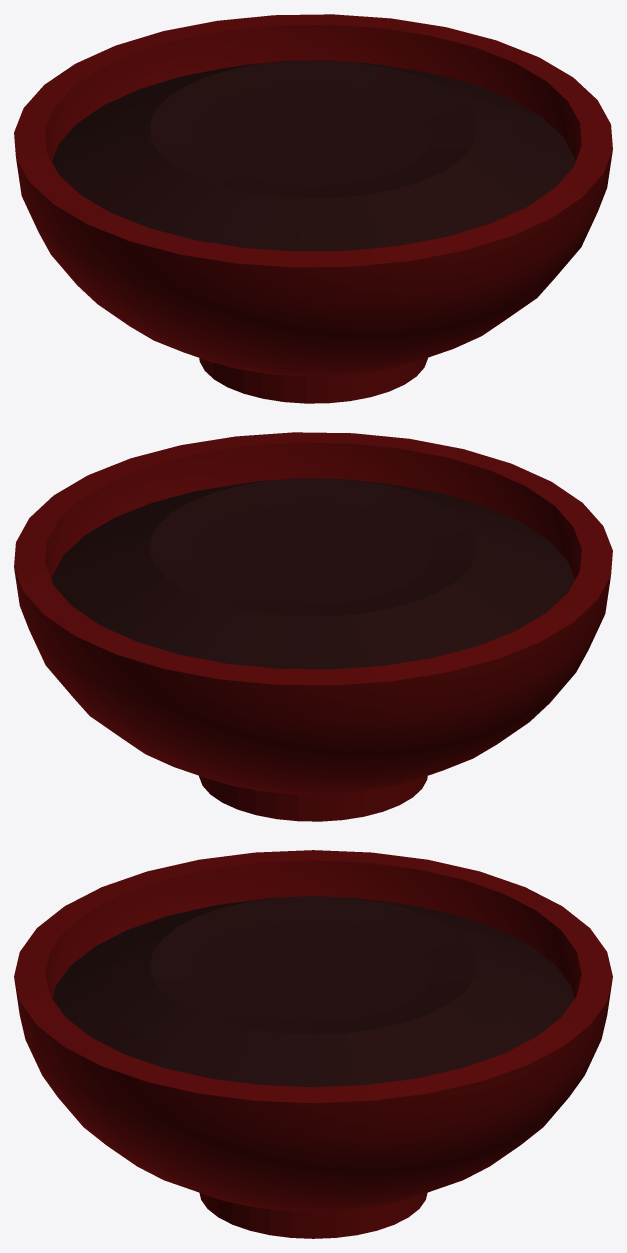
The model's file is offrandes_pieces.FBX.
The picture shows the model from 3 angles, top to bottom: view 1: azimuth 30°, elevation 25°; view 2: azimuth 150°, elevation 25°; view 3: azimuth 270°, elevation 25°; orthographic projection.
Visible parts, largest first — view 1: Niveau1_Bol002; view 2: Niveau1_Bol002; view 3: Niveau1_Bol002.
Boxes of the visible parts, x1,y1,x2,y2 form: Niveau1_Bol002: (14, 14, 612, 403); Niveau1_Bol002: (14, 432, 612, 821); Niveau1_Bol002: (14, 850, 612, 1238).
Bounding box in the file's own units: 64.98 × 26.95 × 64.98.
